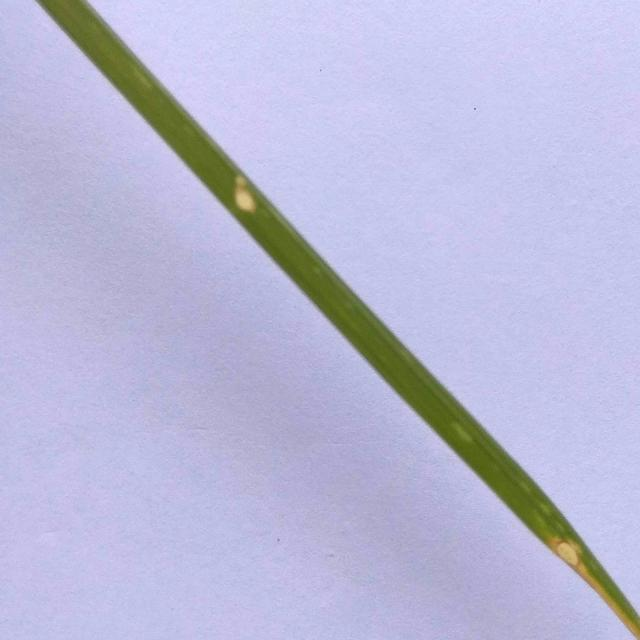Leaf_Blast: (524, 494, 633, 636), (211, 148, 304, 254)
